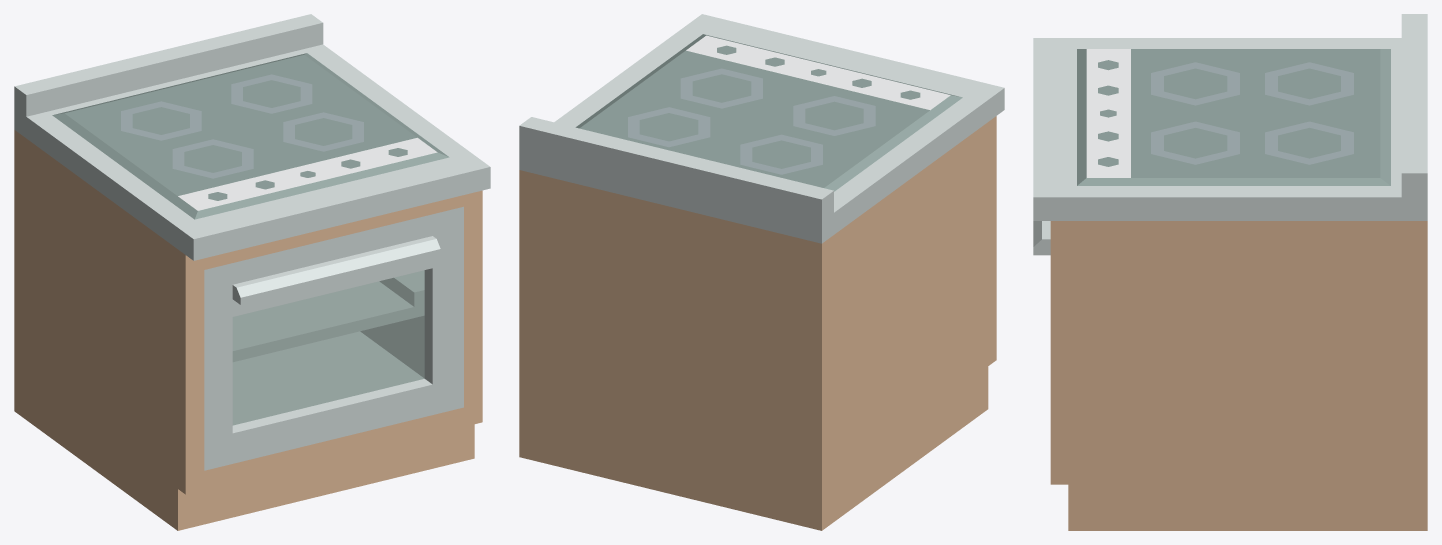
The model's file is kitchenStoveElectric.optimized.glb.
3 views of the same model, side by side, from view 1: azimuth 30°, elevation 25°; view 2: azimuth 150°, elevation 25°; view 3: azimuth 270°, elevation 25° (orthographic). The views are drawn at different scales.
Visible parts, largest first — view 1: kitchenStoveElectric(Clone); view 2: kitchenStoveElectric(Clone); view 3: kitchenStoveElectric(Clone).
Boxes of the visible parts, x1,y1,x2,y2 form: kitchenStoveElectric(Clone): [14, 14, 490, 530]; kitchenStoveElectric(Clone): [519, 14, 1004, 530]; kitchenStoveElectric(Clone): [1033, 14, 1427, 530].
Size of the model in its own units: 0.43 by 0.45 by 0.45.
2 materials, 2 textured.
